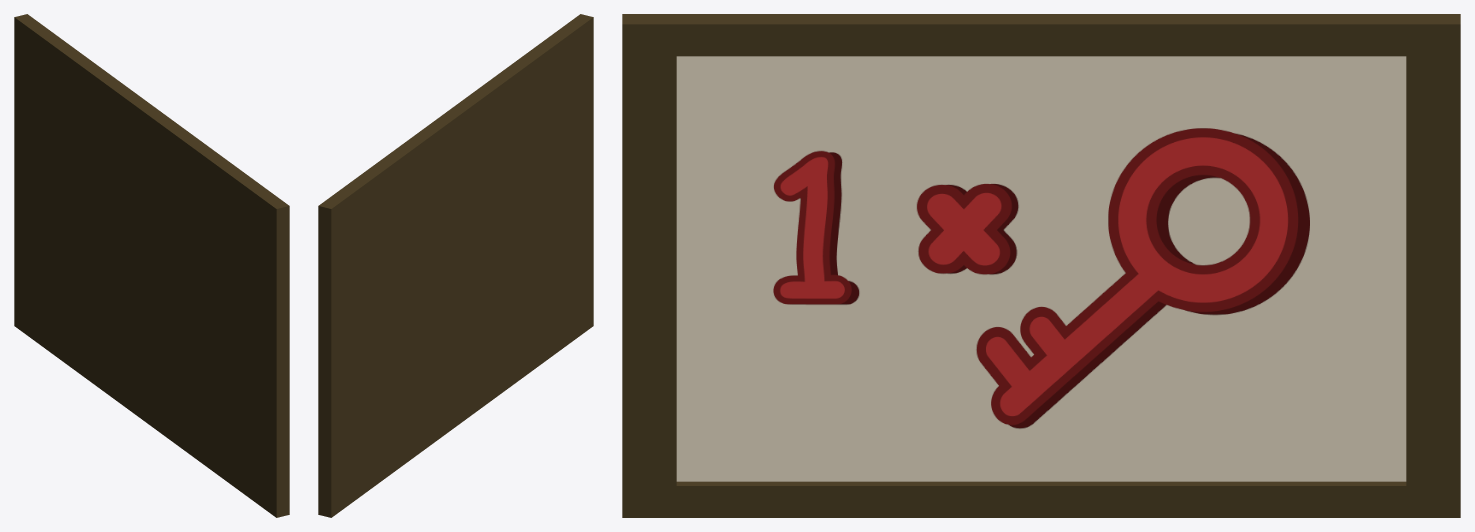
Rendered from 1redkey.fbx.
3 renders of one model, left to right at view 1: azimuth 30°, elevation 25°; view 2: azimuth 150°, elevation 25°; view 3: azimuth 270°, elevation 25°, orthographic. The views are drawn at different scales.
Parts seen in each view (by area): view 1: Cube; view 2: Cube; view 3: Cube.
Part boxes in pixels (left/top/right/bottom): Cube: left=14, top=14, right=289, bottom=517; Cube: left=318, top=14, right=593, bottom=517; Cube: left=622, top=14, right=1460, bottom=517.
Size of the model in its own units: 21.1 by 478 by 735.
